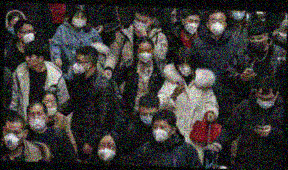mask_weared_incorrect: (40, 95, 57, 118)
with_mask: (2, 126, 25, 149), (25, 109, 47, 132), (150, 122, 172, 144), (205, 15, 226, 36), (96, 139, 116, 161), (253, 92, 276, 111), (246, 34, 267, 51), (135, 45, 154, 63), (132, 15, 152, 32), (72, 56, 89, 75), (19, 27, 36, 44), (138, 109, 156, 125), (182, 17, 200, 33), (176, 59, 192, 77), (69, 14, 87, 28), (230, 10, 246, 21), (5, 21, 18, 34)
without_mask: (23, 52, 39, 67)
